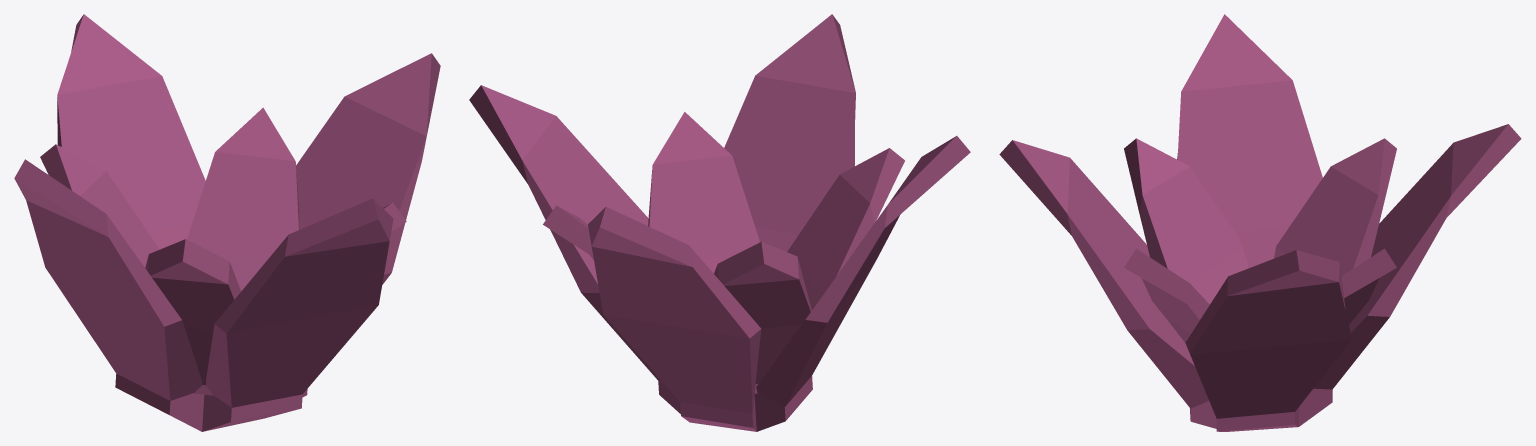
Rendered from Cactus_Crop.glb.
The picture shows the model from 3 angles, left to right: view 1: azimuth 30°, elevation 25°; view 2: azimuth 150°, elevation 25°; view 3: azimuth 270°, elevation 25°; orthographic projection. The views are drawn at different scales.
Parts seen in each view (by area): view 1: Cactus_Crop.obj; view 2: Cactus_Crop.obj; view 3: Cactus_Crop.obj.
Part boxes in pixels (x1=…): Cactus_Crop.obj: x1=14, y1=14, x2=440, y2=431; Cactus_Crop.obj: x1=469, y1=14, x2=970, y2=431; Cactus_Crop.obj: x1=999, y1=14, x2=1521, y2=431.
Bounding box in the file's own units: 0.3619 × 0.2362 × 0.366.
